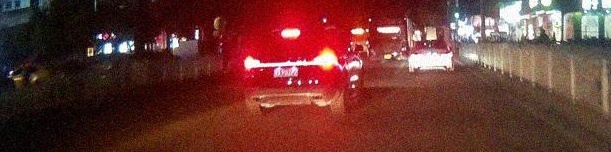L_light: (244, 55, 261, 71)
R_light: (313, 49, 337, 70)
T_light: (281, 28, 300, 39)
night-right: (243, 26, 343, 114)
